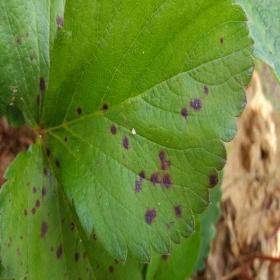Leaf Spot: (39, 0, 257, 264), (0, 143, 147, 279), (146, 215, 204, 279)
